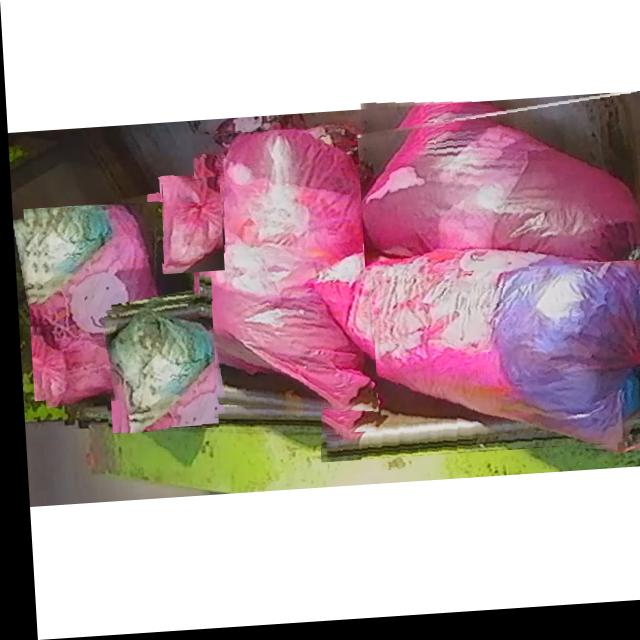general_trashbag: (100, 307, 209, 434)
other_trashbag: (315, 247, 640, 452), (197, 133, 366, 414), (358, 120, 640, 269), (31, 205, 194, 405), (160, 179, 218, 276)
